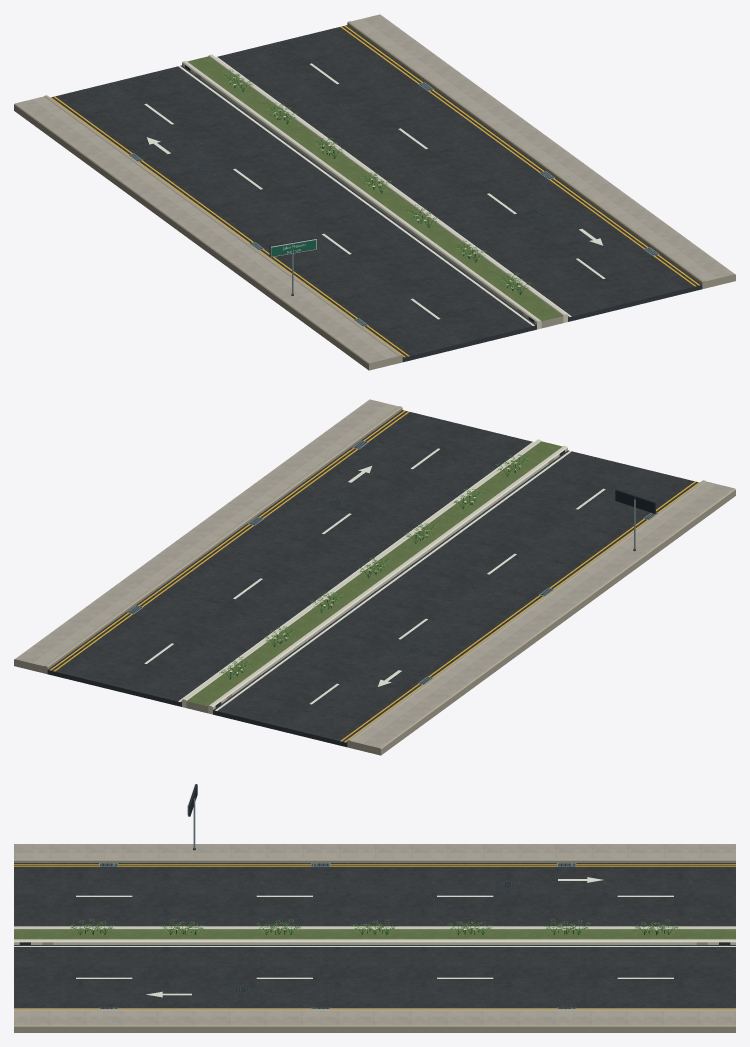
The picture shows the model from 3 angles, top to bottom: view 1: azimuth 30°, elevation 25°; view 2: azimuth 150°, elevation 25°; view 3: azimuth 270°, elevation 25°; orthographic projection.
Visible parts, largest first — view 1: Road Deck, Kerbs and Footways, Planted Median, Road Markings, Median Kerbs, Median Planting, Local Street Signs, Drainage and Utility Covers; view 2: Road Deck, Kerbs and Footways, Planted Median, Road Markings, Median Kerbs, Median Planting, Local Street Signs, Drainage and Utility Covers; view 3: Road Deck, Kerbs and Footways, Planted Median, Median Kerbs, Road Markings, Median Planting, Drainage and Utility Covers.
Part boxes in pixels (x1,y1,x2,y2): Road Deck: (51, 25, 702, 362); Kerbs and Footways: (14, 14, 735, 370); Planted Median: (187, 56, 563, 328); Road Markings: (50, 25, 699, 357); Median Kerbs: (182, 54, 567, 329); Median Planting: (219, 69, 530, 294); Local Street Signs: (269, 238, 316, 295); Drainage and Utility Covers: (128, 82, 659, 326); Road Deck: (47, 410, 698, 747); Kerbs and Footways: (14, 399, 735, 755); Planted Median: (186, 441, 562, 713); Road Markings: (50, 410, 699, 742); Median Kerbs: (182, 439, 567, 714); Median Planting: (219, 454, 528, 679); Local Street Signs: (615, 489, 655, 551); Drainage and Utility Covers: (127, 440, 657, 684); Road Deck: (14, 863, 735, 1008); Kerbs and Footways: (14, 844, 735, 1032); Planted Median: (14, 929, 735, 939); Median Kerbs: (14, 926, 735, 944); Road Markings: (14, 864, 735, 1008); Median Planting: (70, 919, 679, 934); Drainage and Utility Covers: (99, 863, 576, 1008).
Size of the model in its own units: 19.59 by 3.04 by 32.
Materials: 18 (3 with a texture image).
